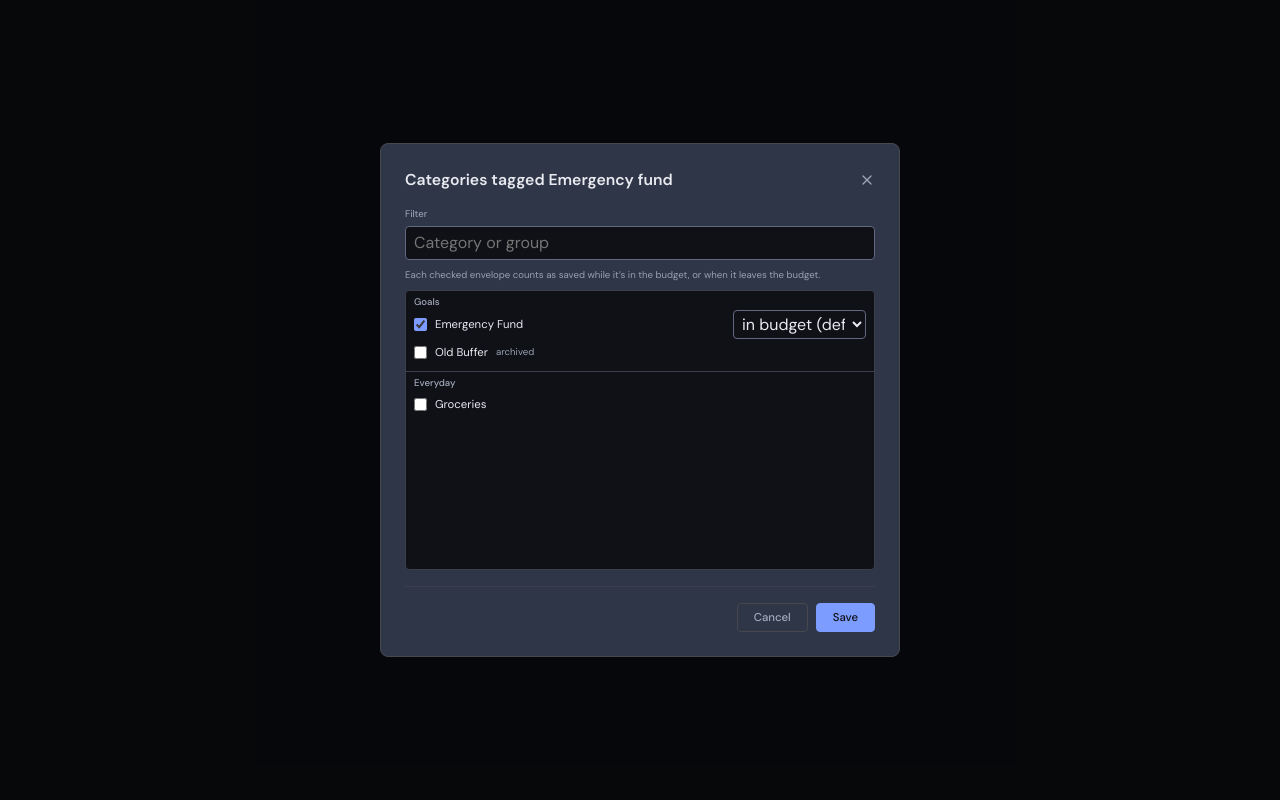
Test: TagMembershipDialog › says why a refused save failed and stays open
Click the checkbox labelled "Groceries": (420, 404) x1=414 y1=398 x2=427 y2=411
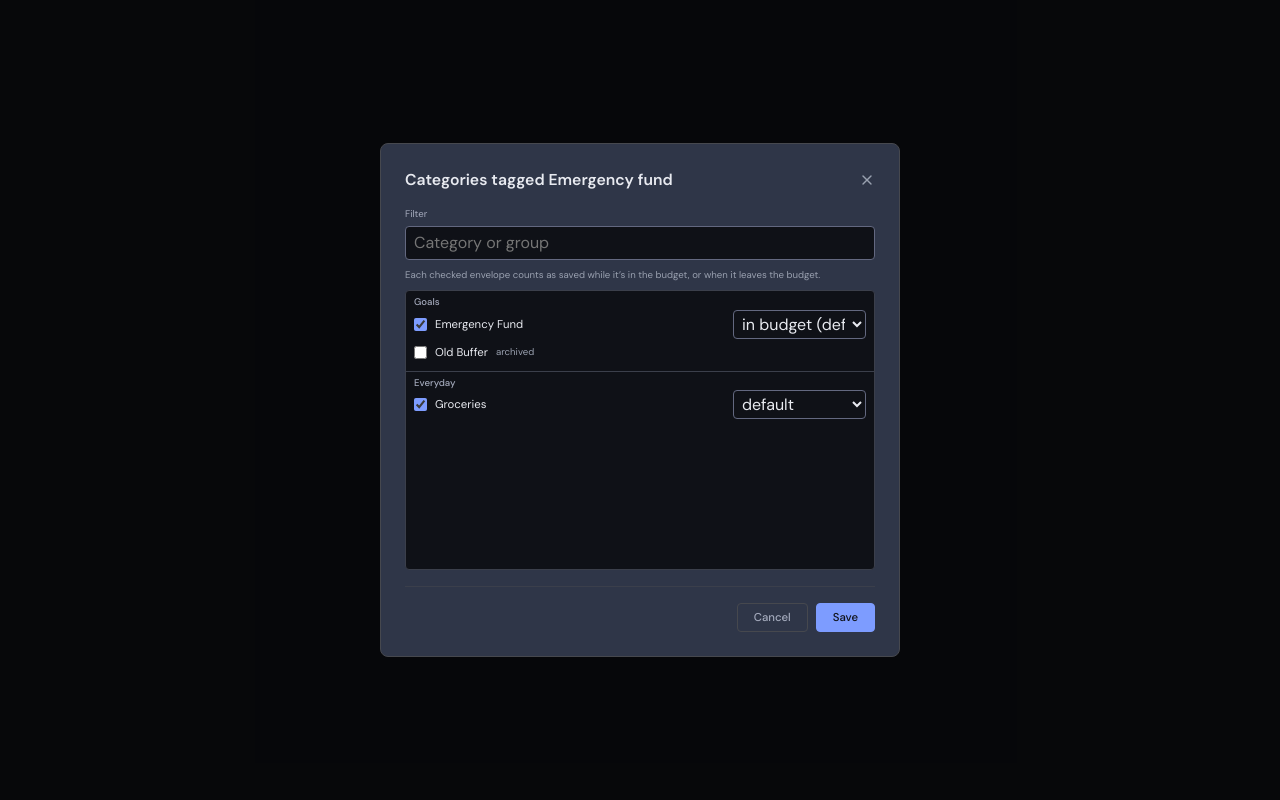
Click the button "Save": (845, 618) x1=816 y1=603 x2=875 y2=632
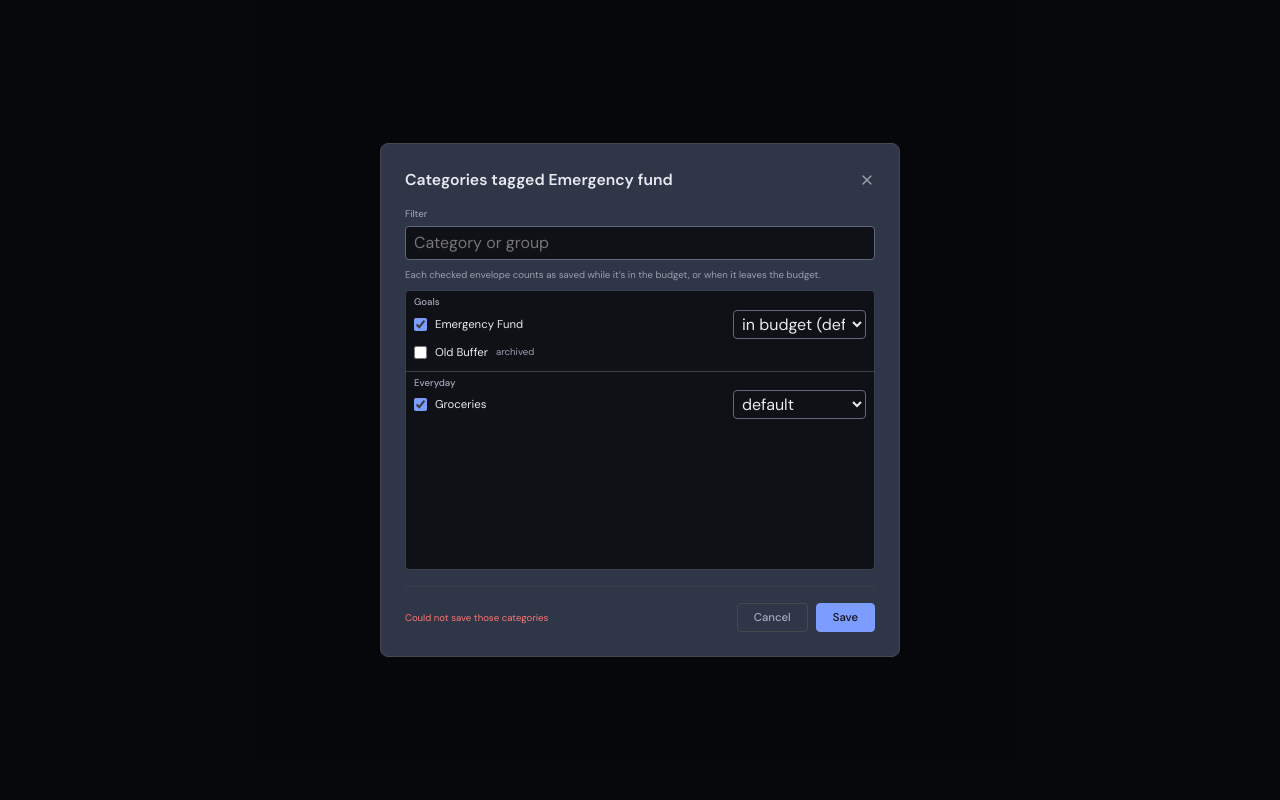
expect the message shows "Could not save": met, box x1=405 y1=610 x2=548 y2=624
